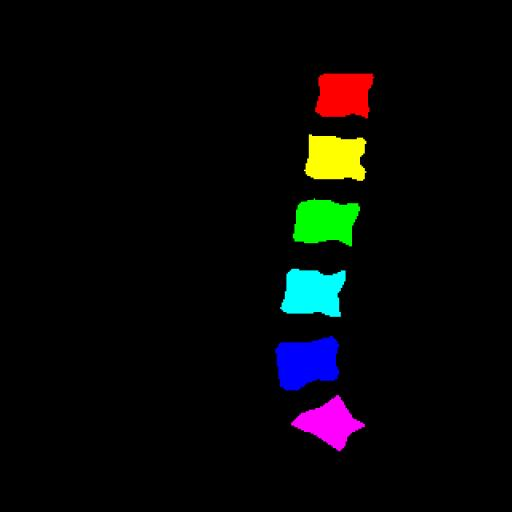L1: (316, 74, 372, 118)
L2: (306, 136, 364, 180)
L3: (296, 199, 358, 246)
L4: (284, 269, 344, 316)
L5: (275, 336, 339, 390)
S1: (291, 396, 365, 451)
